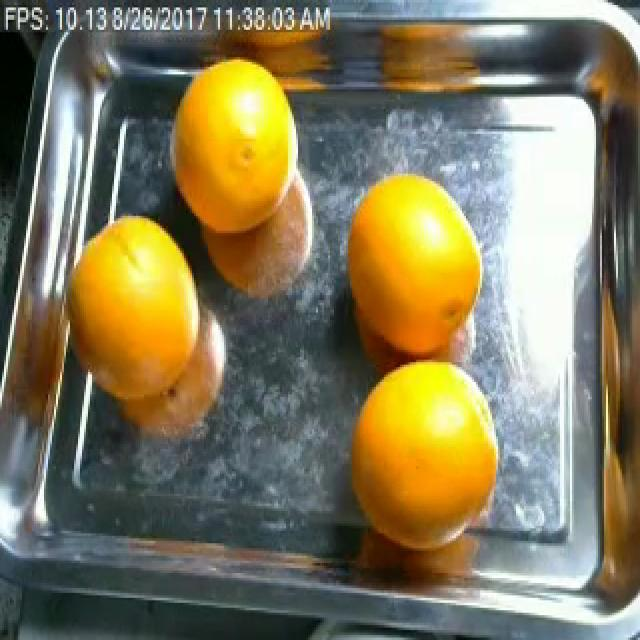Fruit: (328, 148, 494, 364), (154, 44, 302, 250), (74, 196, 210, 387)
